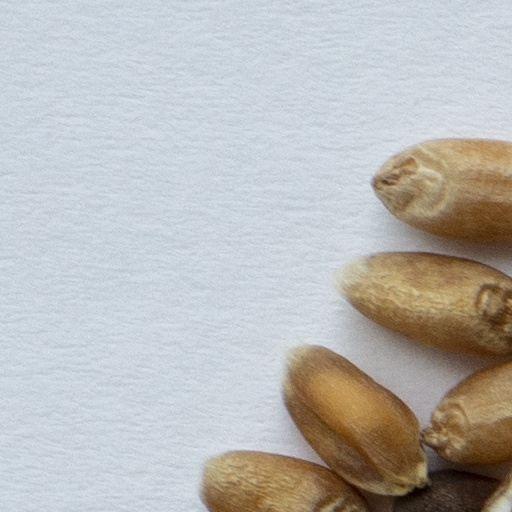Convolvulus-poly: (394, 471, 498, 511)
